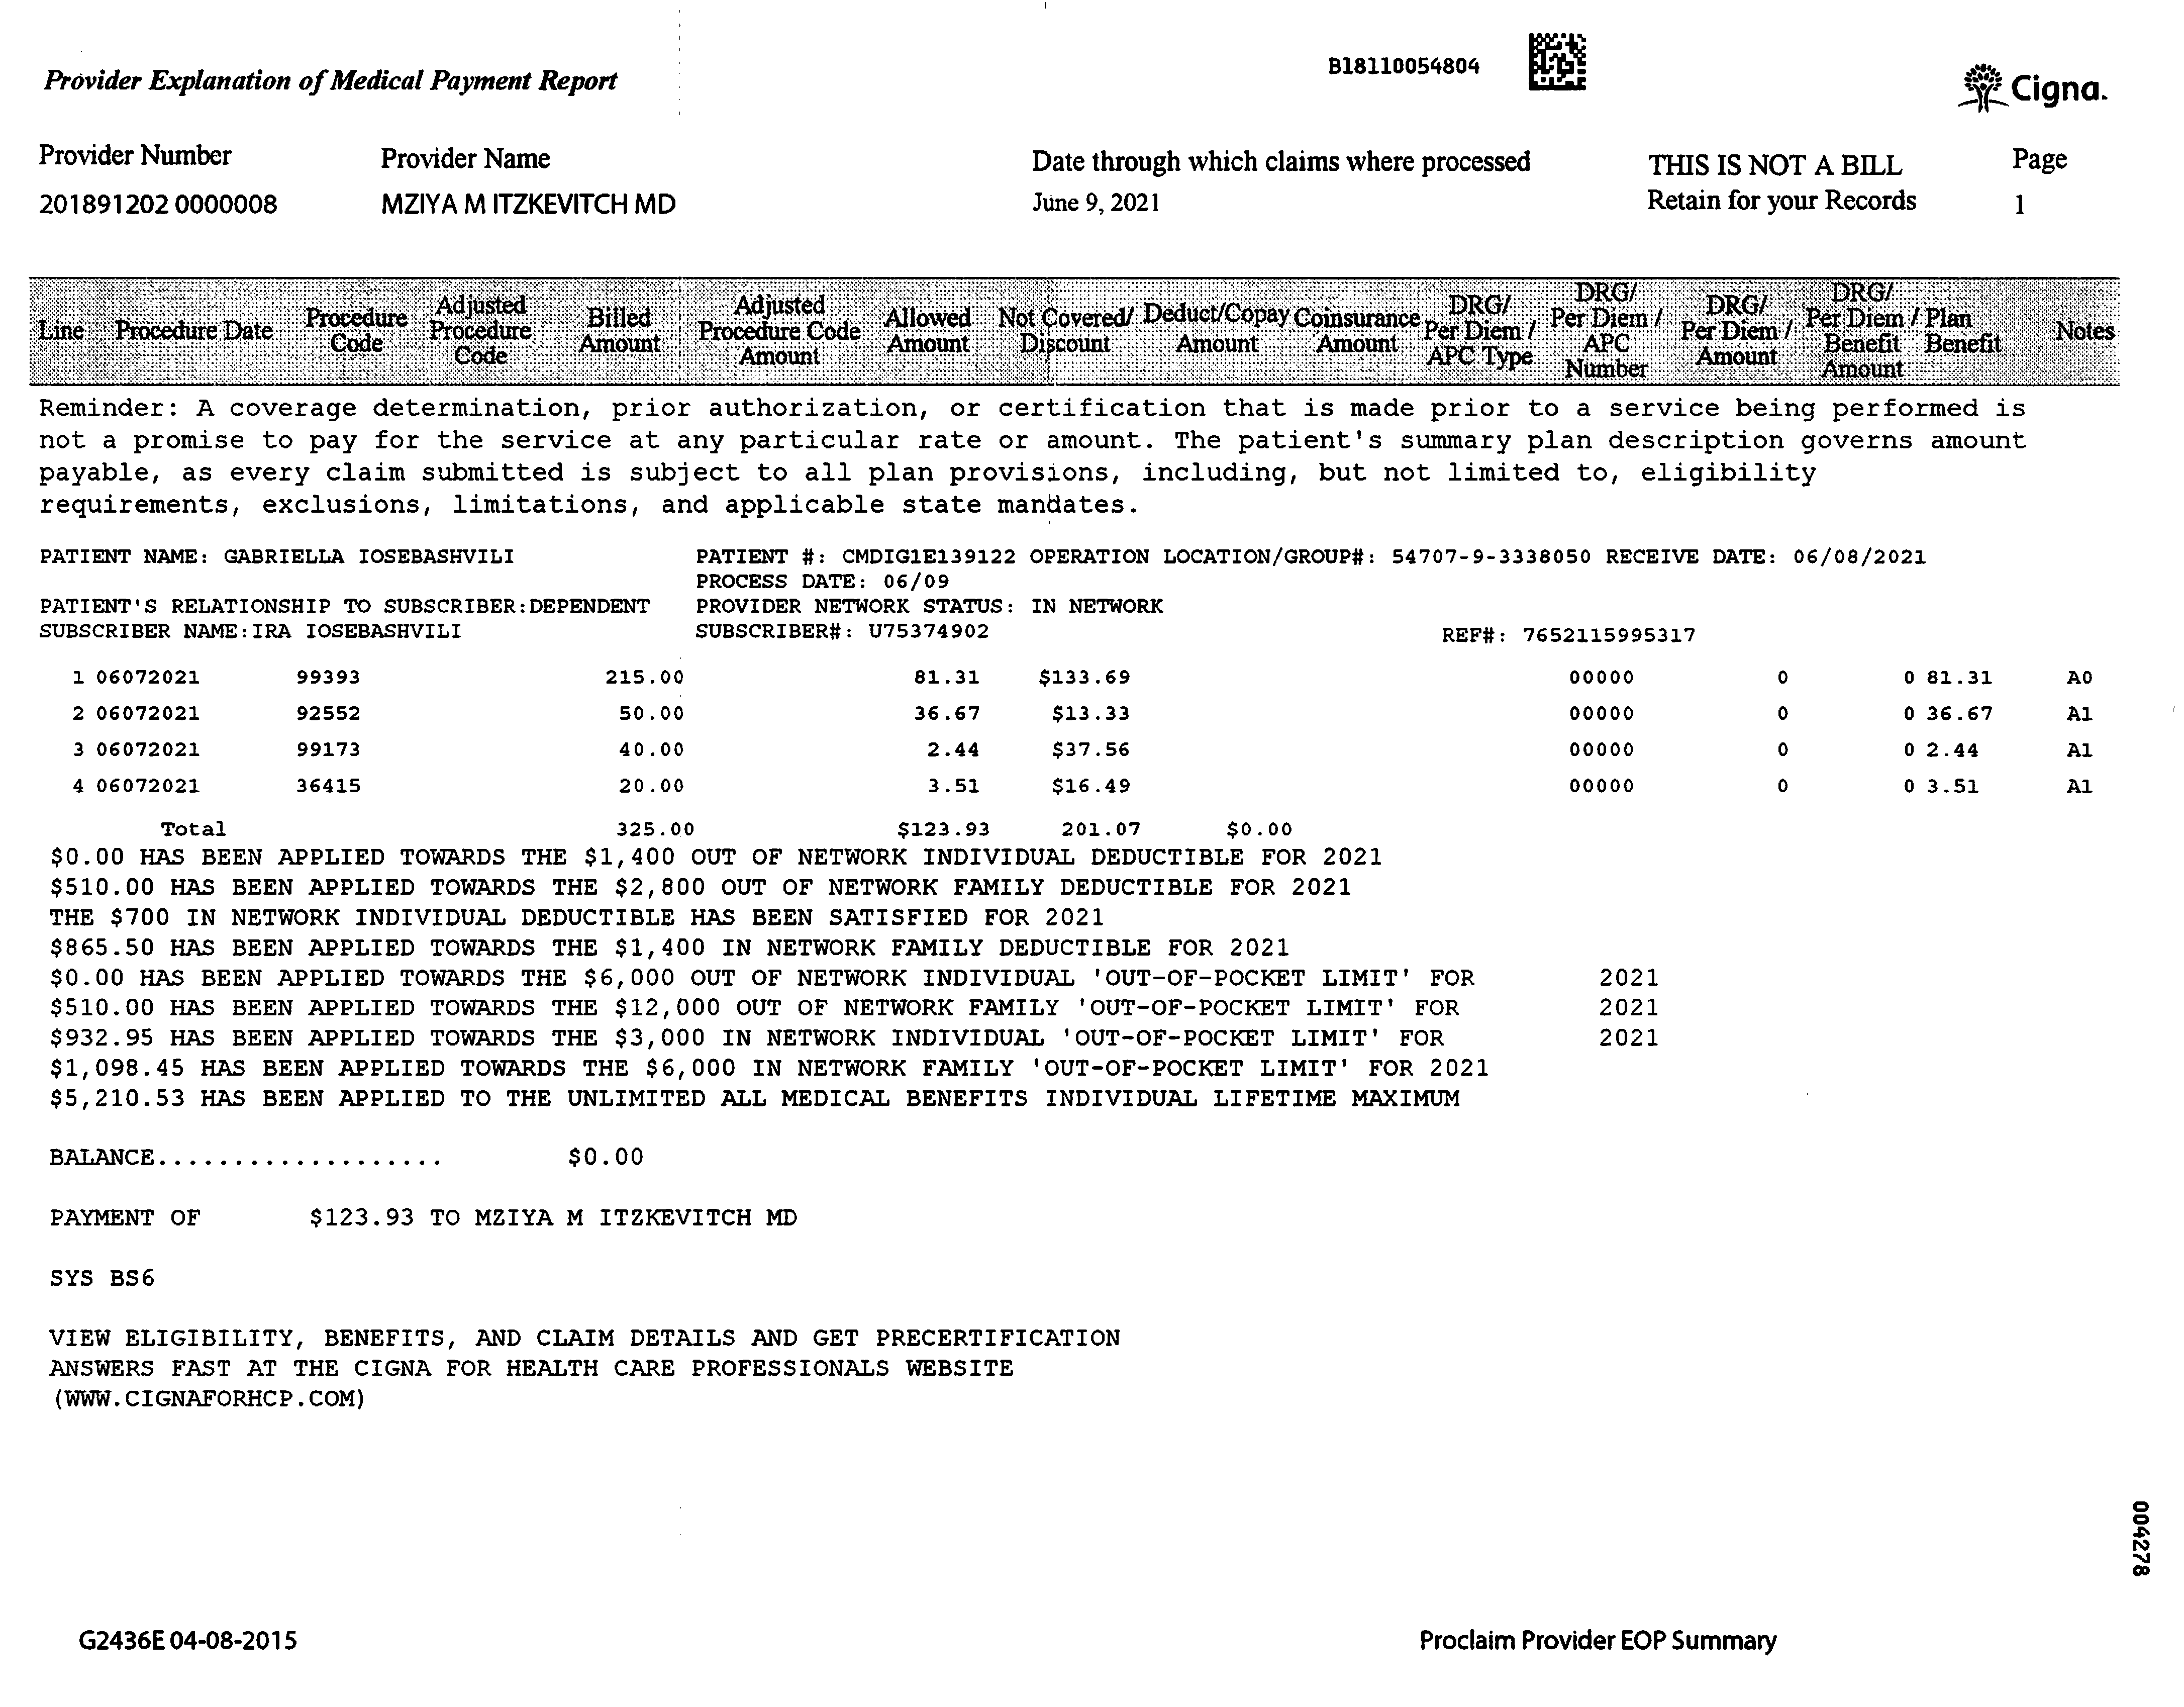data: (28, 129, 690, 245)
